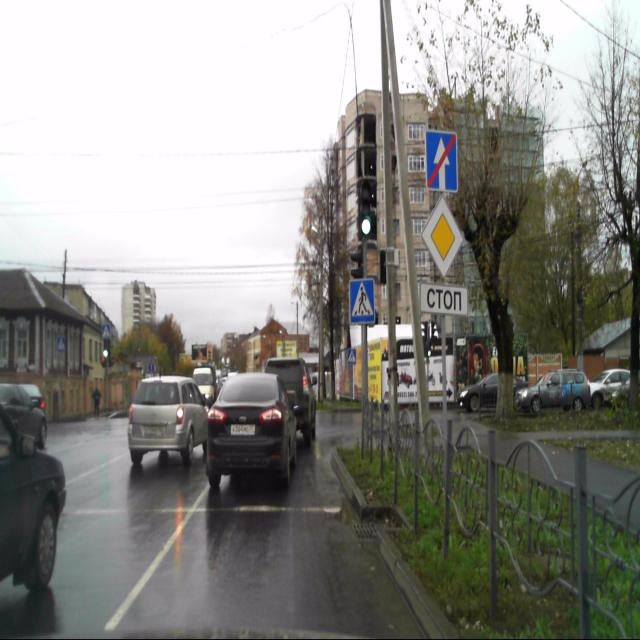road sign: (422, 196, 462, 278), (425, 130, 458, 192), (420, 283, 468, 316), (350, 278, 374, 324)
